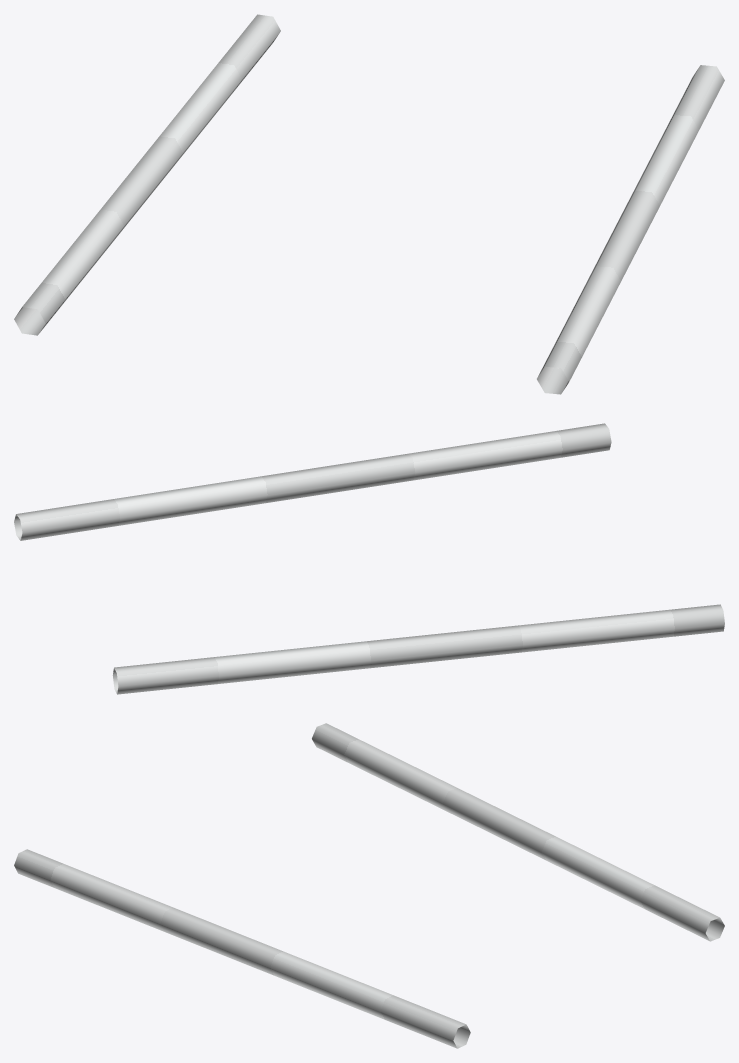
File: nycsignalarm_diagonal8_c6.obj
3 renders of one model, top to bottom at view 1: azimuth 30°, elevation 25°; view 2: azimuth 150°, elevation 25°; view 3: azimuth 270°, elevation 25°, orthographic. The views are drawn at different scales.
Parts seen in each view (by area): view 1: nycsignalarm_diagonal8_c6; view 2: nycsignalarm_diagonal8_c6; view 3: nycsignalarm_diagonal8_c6.
Boxes of the visible parts, left/top/right/bottom form: nycsignalarm_diagonal8_c6: left=14, top=14, right=724, bottom=394; nycsignalarm_diagonal8_c6: left=14, top=423, right=724, bottom=694; nycsignalarm_diagonal8_c6: left=14, top=723, right=724, bottom=1048.
Bounding box in the file's own units: 1.71 × 0.0773 × 1.71.
